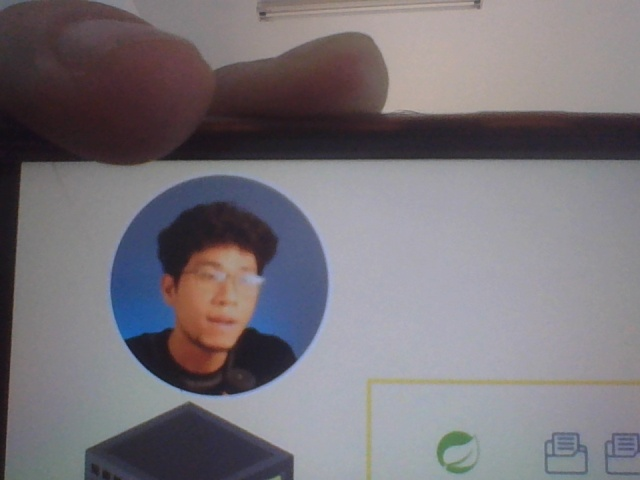fake: (154, 190, 287, 378)
